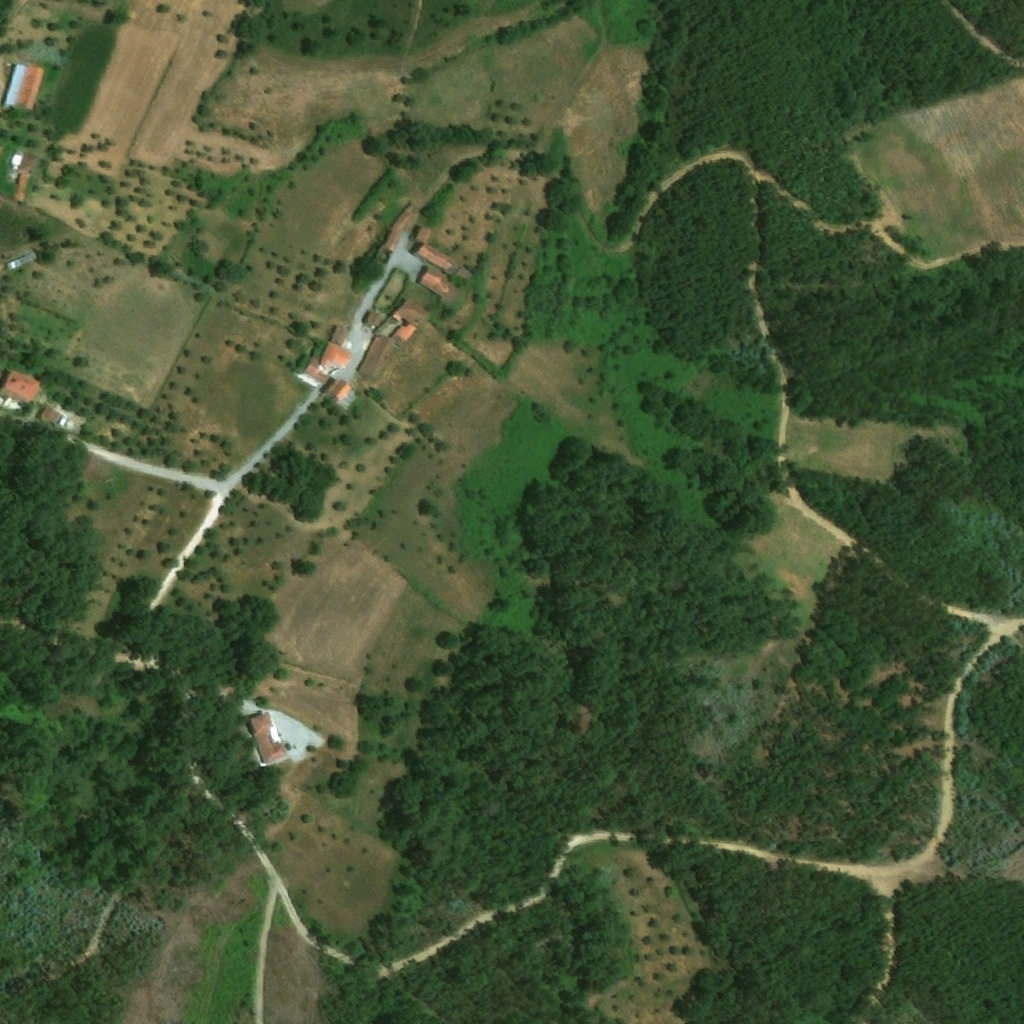0 no-damage: (246, 711, 287, 765), (1, 65, 46, 113), (416, 266, 464, 310), (409, 244, 462, 277), (358, 336, 395, 382), (381, 208, 414, 254), (0, 370, 42, 406), (393, 297, 432, 327), (323, 380, 359, 412), (9, 150, 41, 178), (320, 342, 353, 369), (301, 357, 330, 386), (5, 251, 38, 274), (391, 322, 420, 348), (331, 325, 350, 346), (38, 407, 61, 424), (362, 312, 386, 328), (413, 227, 434, 244), (455, 267, 474, 281), (16, 175, 28, 186)
4 un-classified: (0, 146, 5, 161)
